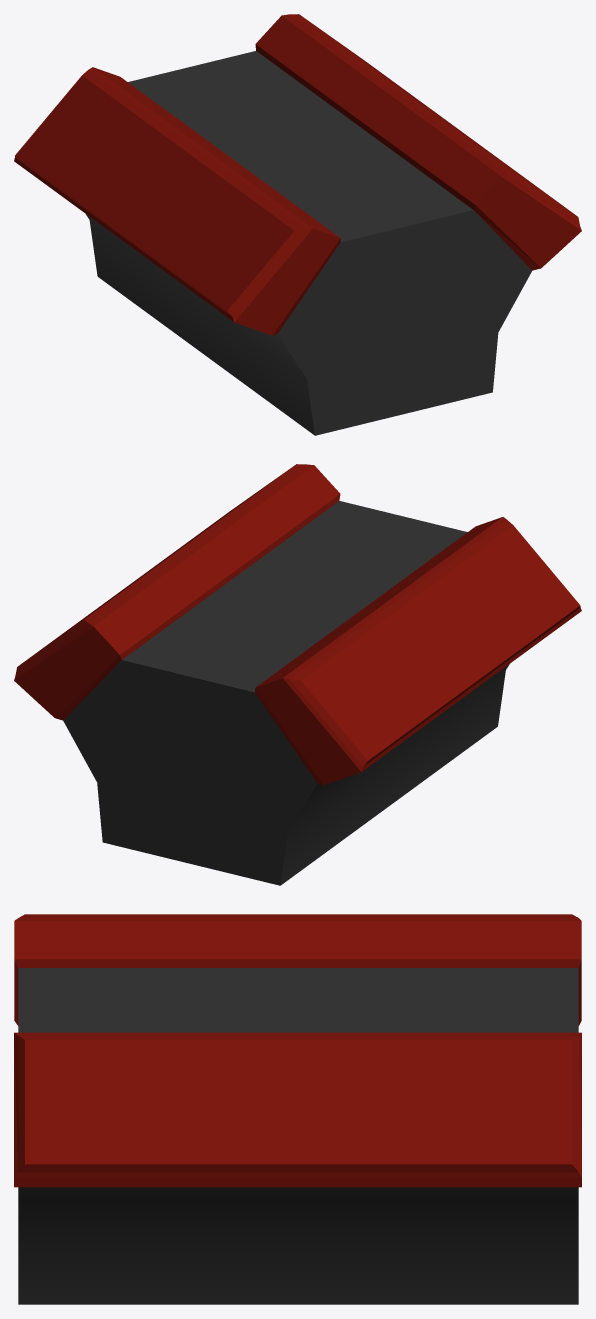
File: MotorCarro.fbx
3 views of the same model, one above another, from view 1: azimuth 30°, elevation 25°; view 2: azimuth 150°, elevation 25°; view 3: azimuth 270°, elevation 25° (orthographic). The views are drawn at different scales.
Parts seen in each view (by area): view 1: Box102; view 2: Box102; view 3: Box102.
Part boxes in pixels (x1=…): Box102: x1=14, y1=14, x2=581, y2=435; Box102: x1=14, y1=464, x2=581, y2=885; Box102: x1=14, y1=914, x2=581, y2=1304.
Bounding box in the file's own units: 78.42 × 46.08 × 85.36.
